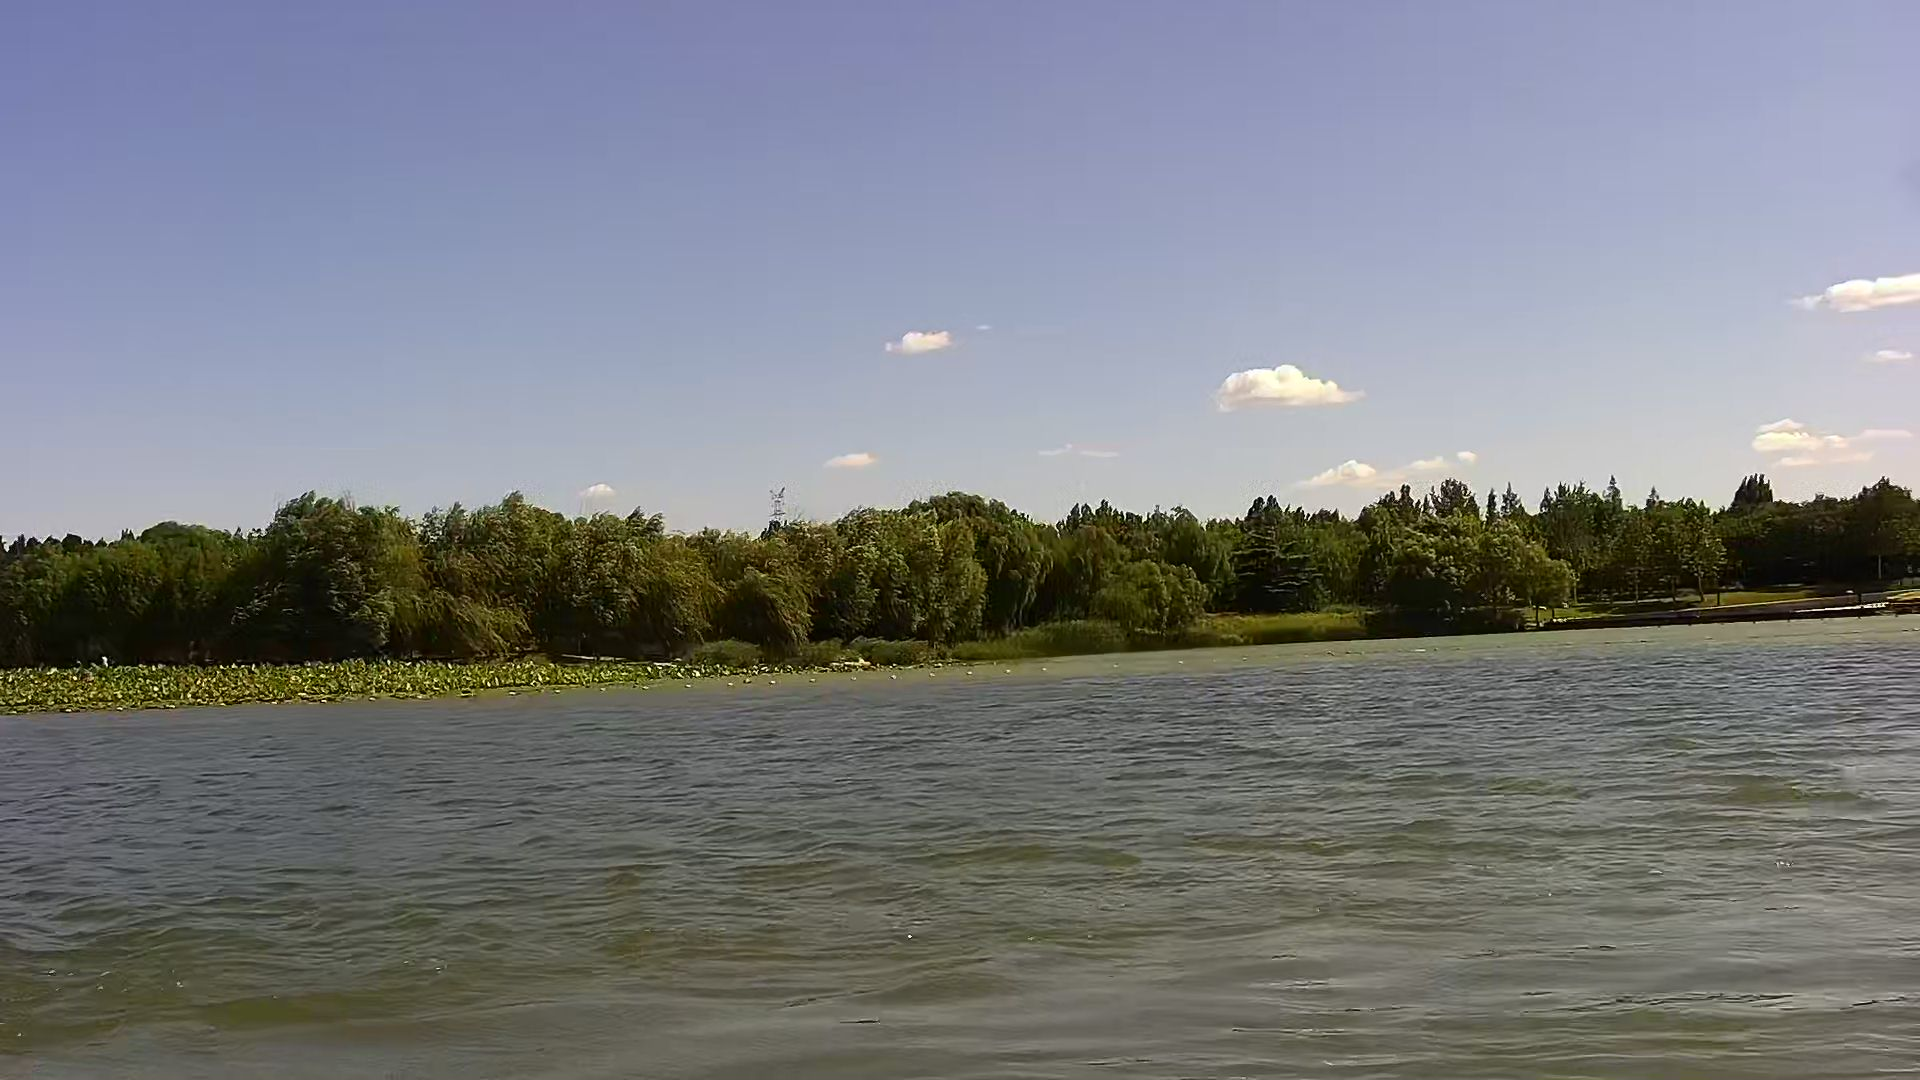grass: (1, 658, 808, 720)
